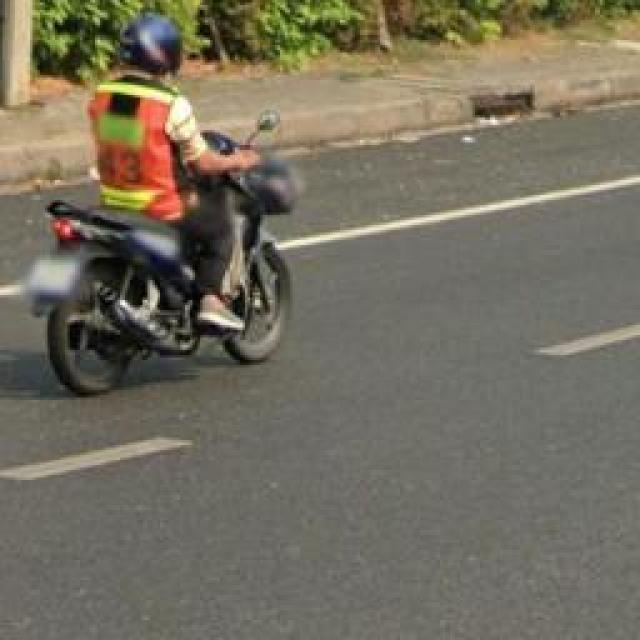motorbike: (25, 14, 297, 396)
